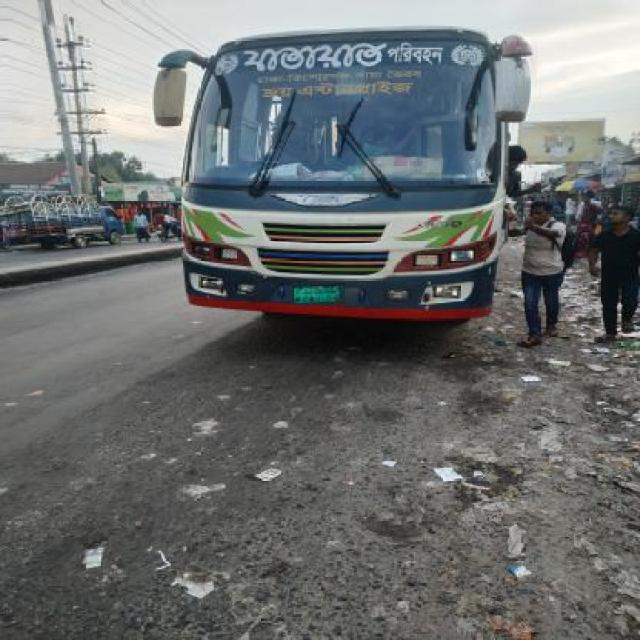numberplate: (292, 283, 345, 305)
